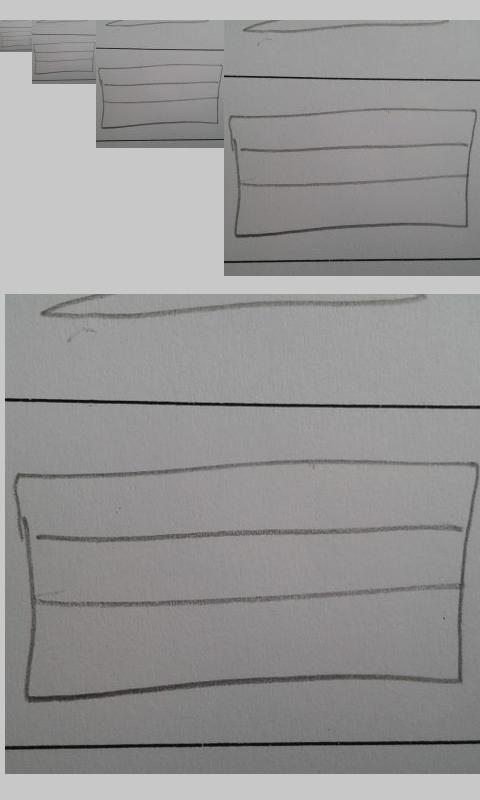list_view: (13, 456, 480, 704), (226, 107, 478, 238), (97, 63, 224, 129), (33, 41, 95, 75), (1, 31, 32, 48)
